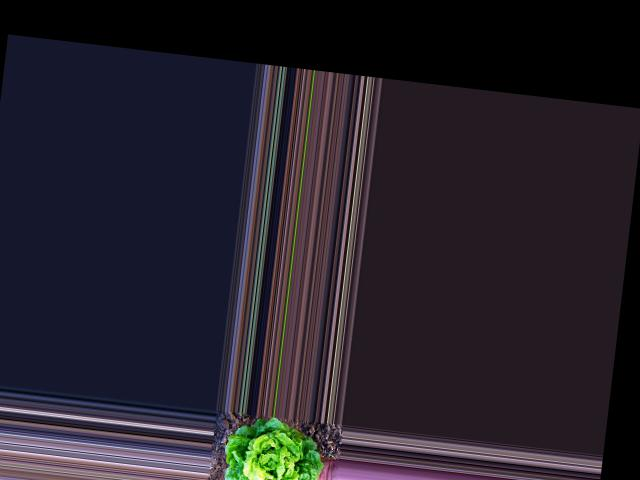lettuce: (217, 414, 320, 480)
